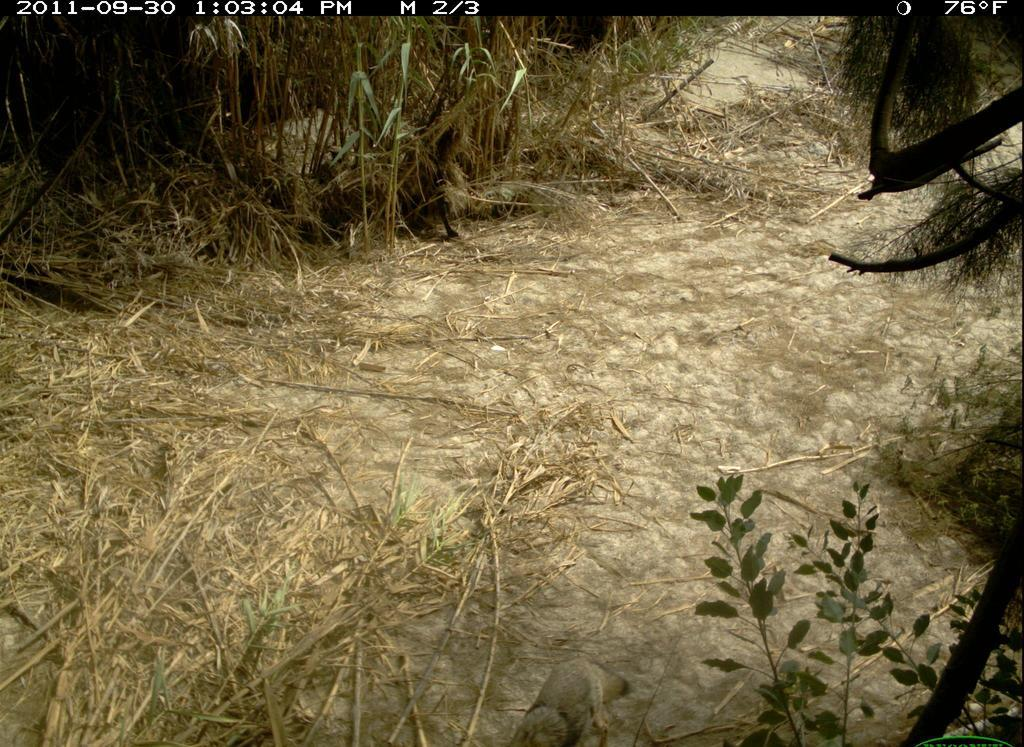coyote: (504, 658, 630, 745)
